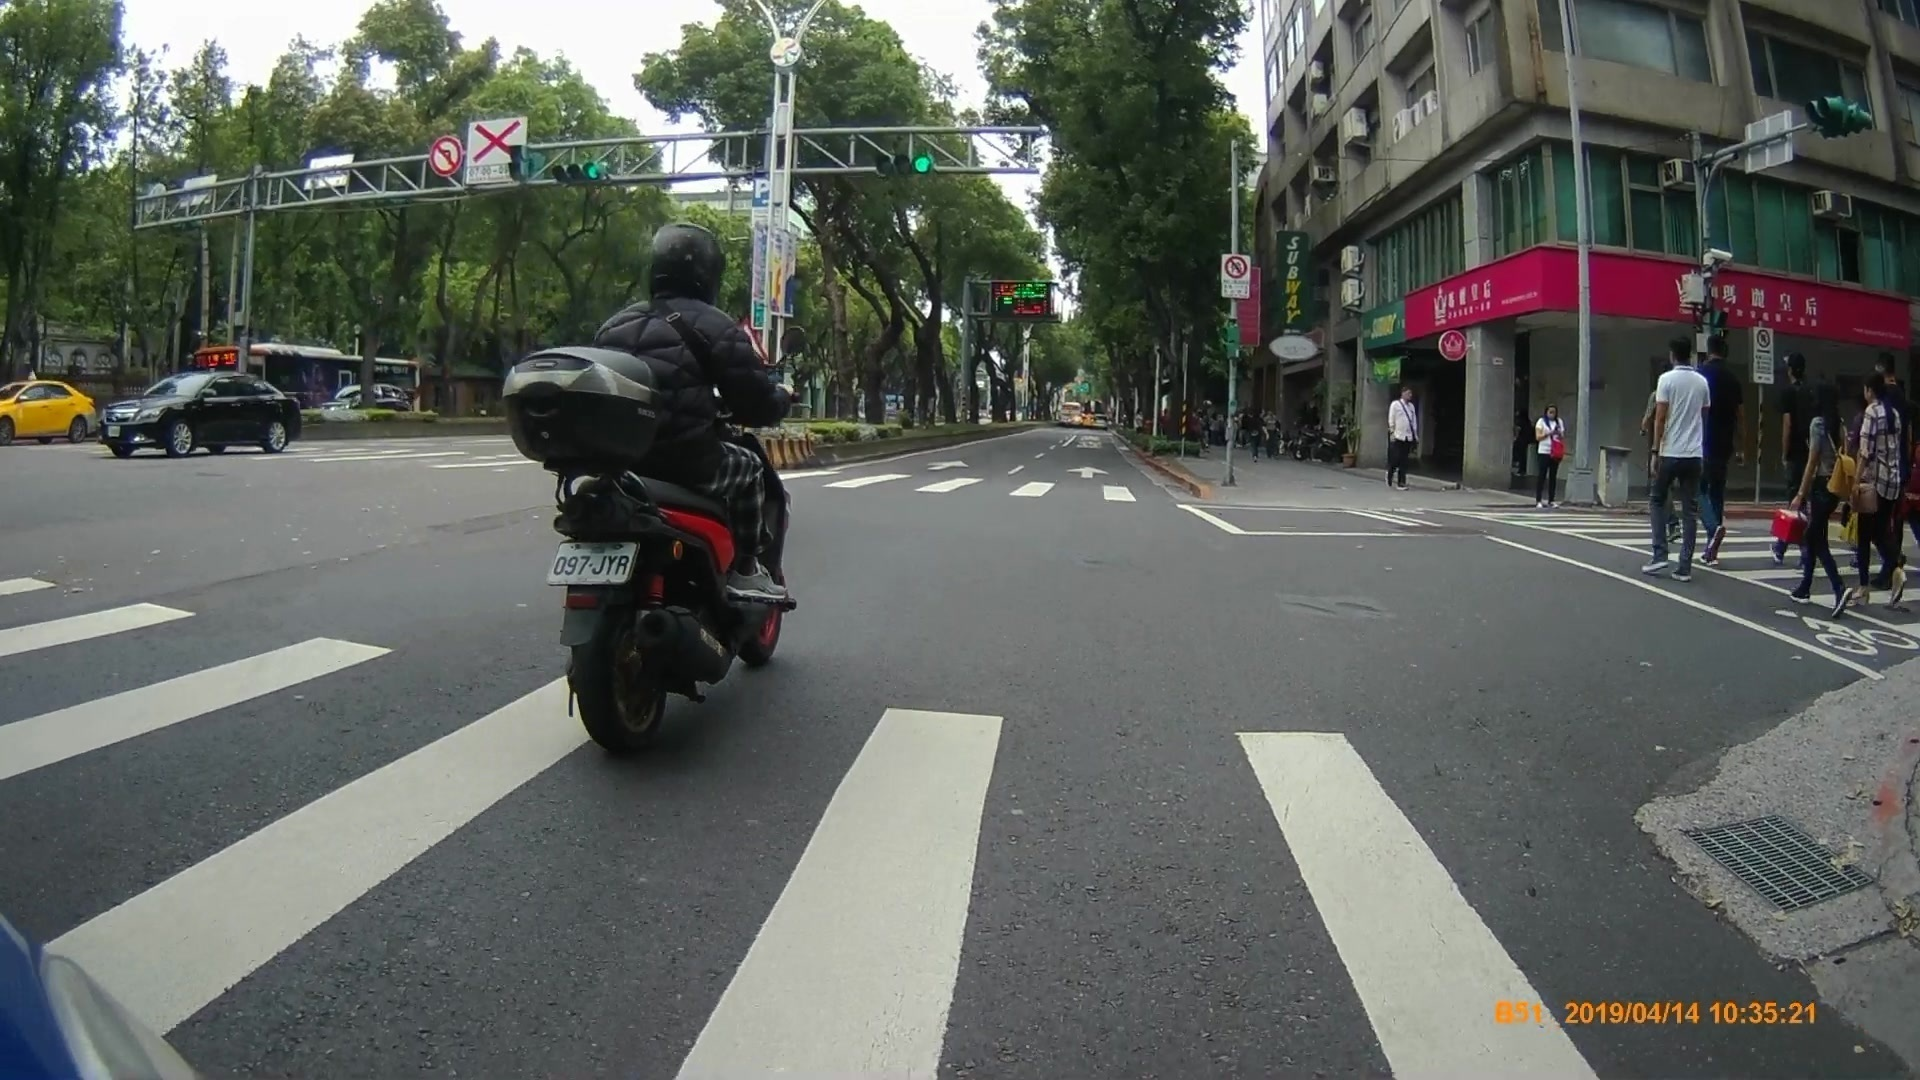License_plate: (549, 541, 633, 583)
